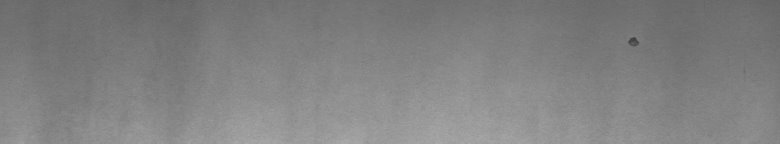fi: (625, 32, 643, 52)
